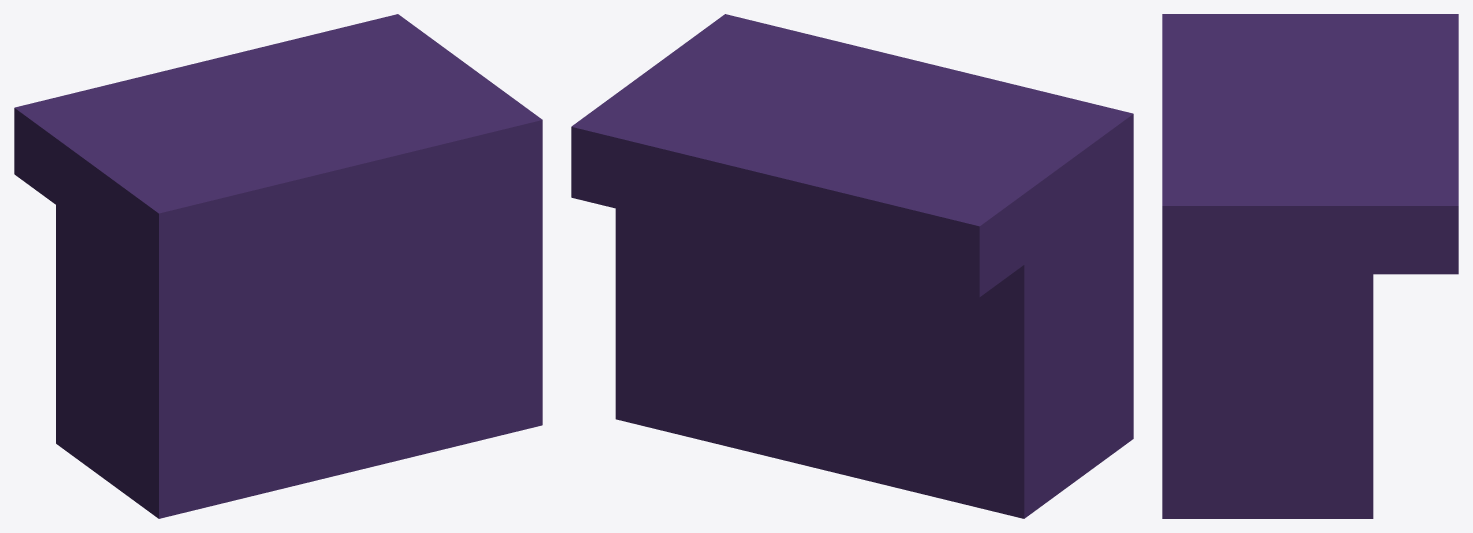
File: CLCounter1.fbx
The picture shows the model from 3 angles, left to right: view 1: azimuth 30°, elevation 25°; view 2: azimuth 150°, elevation 25°; view 3: azimuth 270°, elevation 25°; orthographic projection. The views are drawn at different scales.
Parts seen in each view (by area): view 1: Counter.002; view 2: Counter.002; view 3: Counter.002.
Boxes of the visible parts, x1=… form: Counter.002: x1=14, y1=14, x2=542, y2=518; Counter.002: x1=571, y1=14, x2=1133, y2=518; Counter.002: x1=1162, y1=14, x2=1458, y2=518.
Bounding box in the file's own units: 110 × 83.86 × 72.01.
